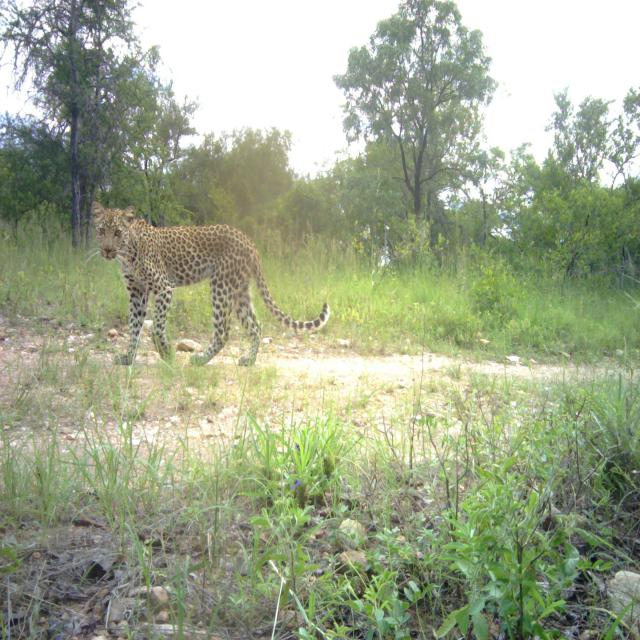Leopard: (98, 213, 325, 369)
